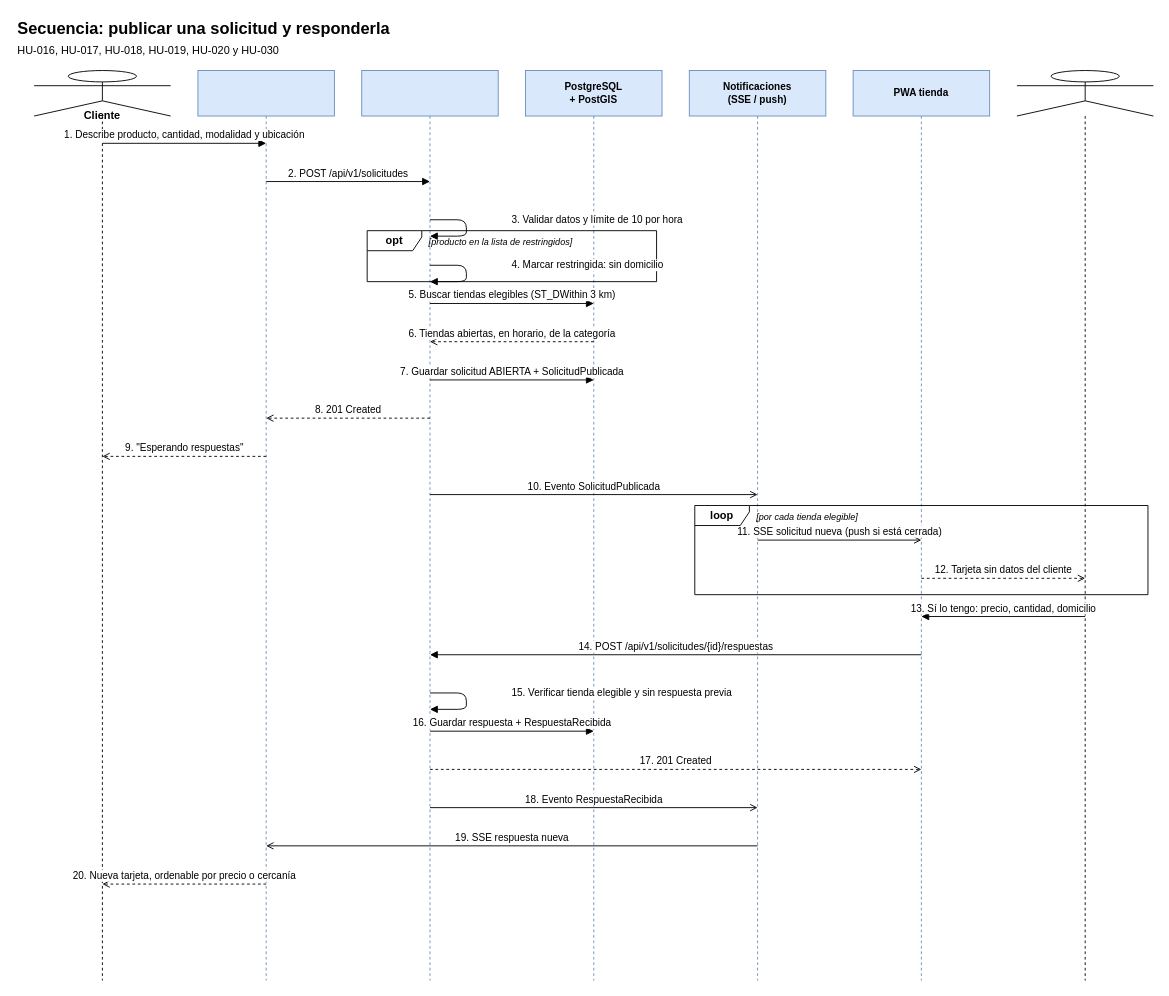
The diagram is 1169 pixels wide and 996 high, and some of its shapes have lost their labels. Each missing label, with the box of its shape:
API REST módulo solicitudes: (361, 70, 498, 981)
PWA cliente: (197, 70, 334, 981)
Tienda: (1016, 70, 1153, 981)
